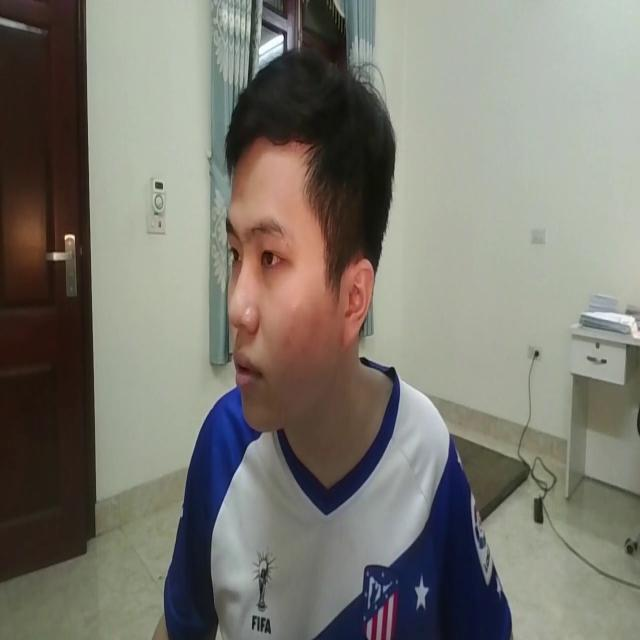student: (131, 45, 521, 640)
